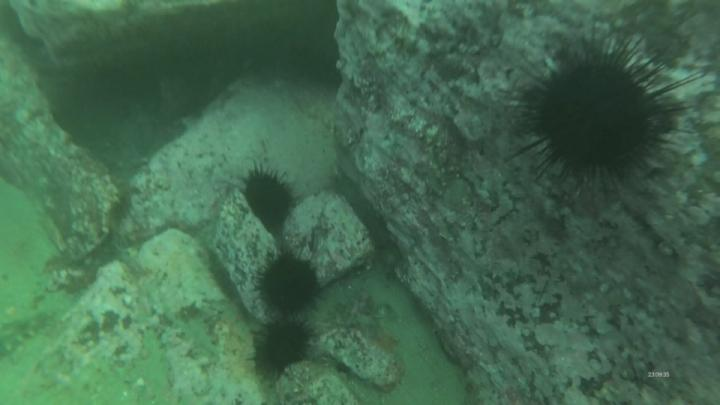echinus: (528, 54, 674, 188), (248, 314, 320, 380), (261, 248, 322, 317), (240, 168, 298, 232)
